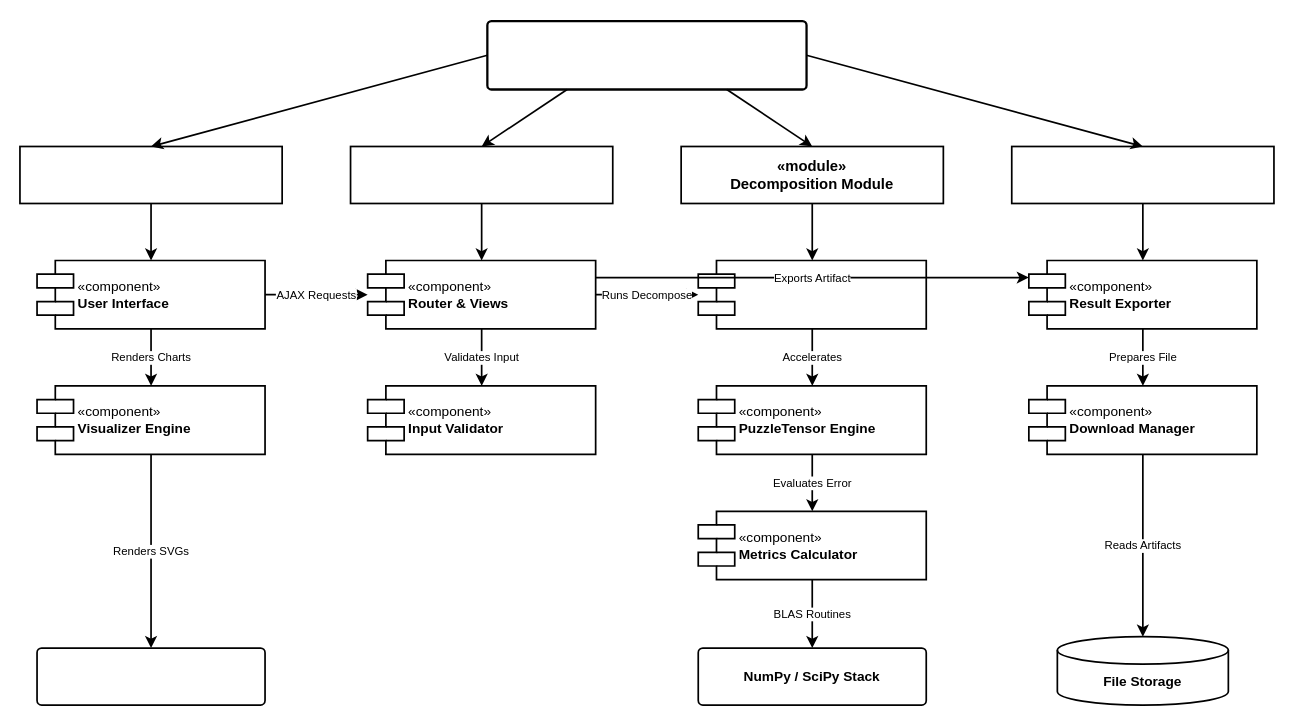
This 1295x725 diagram has some shape labels left out. Each missing label, with the centre of its shape:
Web Browser: the point at 150,676
«component» Tensor Algorithms: the point at 812,294
«module» Application Core Module: the point at 481,174
«module» Persistence Module: the point at 1142,174
«module» Presentation Module: the point at 150,174
«system» Tensor Decomposer System: the point at 646,54
